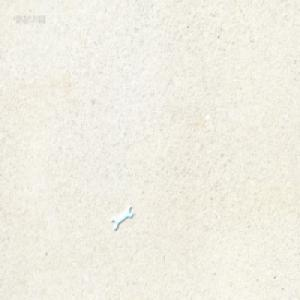Wrench: (112, 203, 134, 229)
